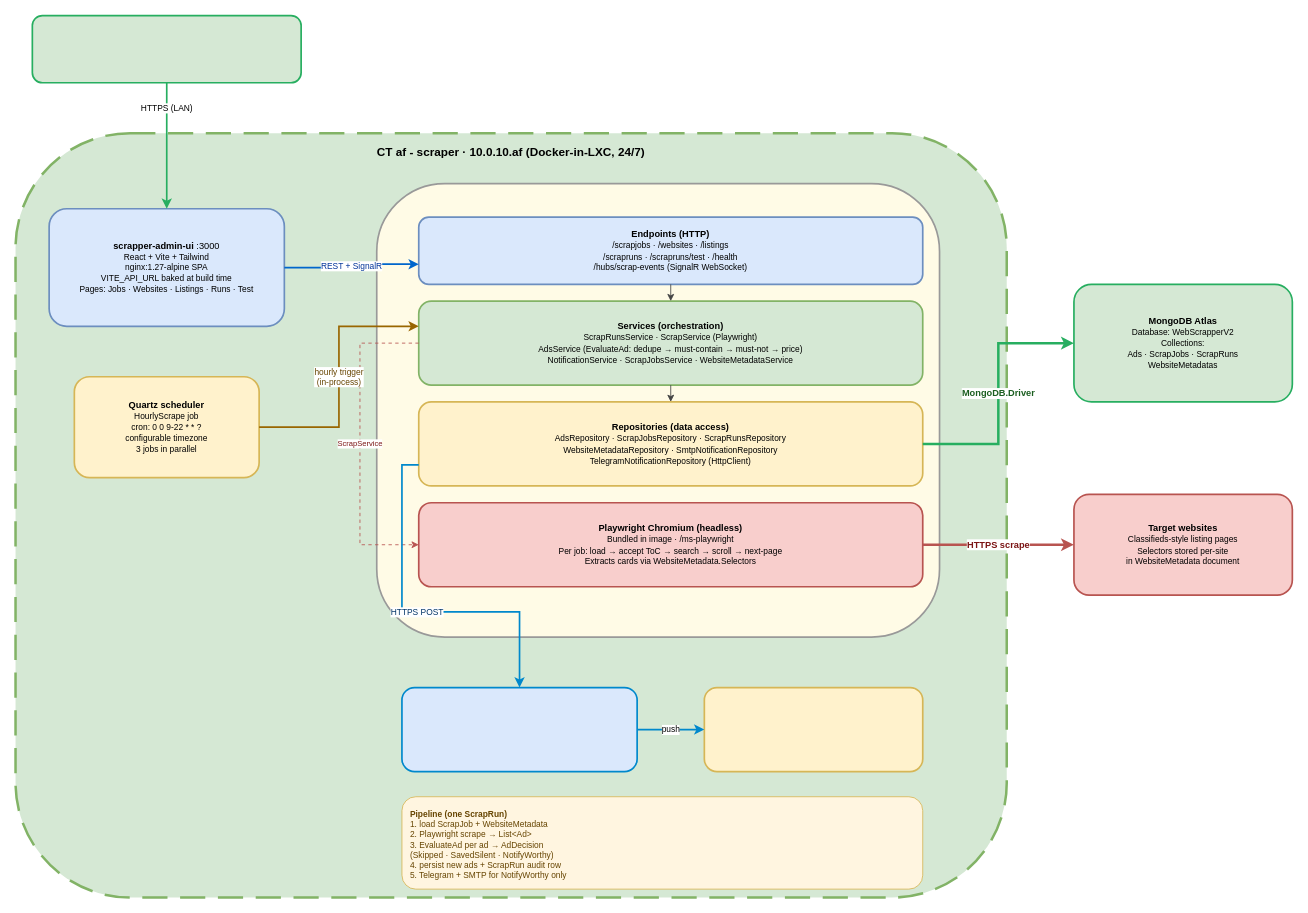
This 1308x913 diagram has some shape labels left out. The box of each missing label's shape, as (x1, y1, x2, y2) in pixels:
scraper-api :8080 - .NET 10 minimal API (WebScrapper.ScraperApi): (375, 182, 940, 638)
Telegram Bot API api.telegram.org sendMessage (HTML) NotifyWorthy ads only: (401, 686, 638, 772)
👤 Browser https://scrapper-admin.local.example.com Routed via Traefik on LAN: (31, 14, 302, 83)
📱 My phone Telegram chat chat_id from config.env or per-job override: (703, 686, 923, 772)
